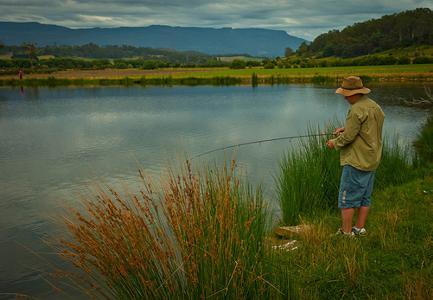person: (327, 76, 386, 240)
